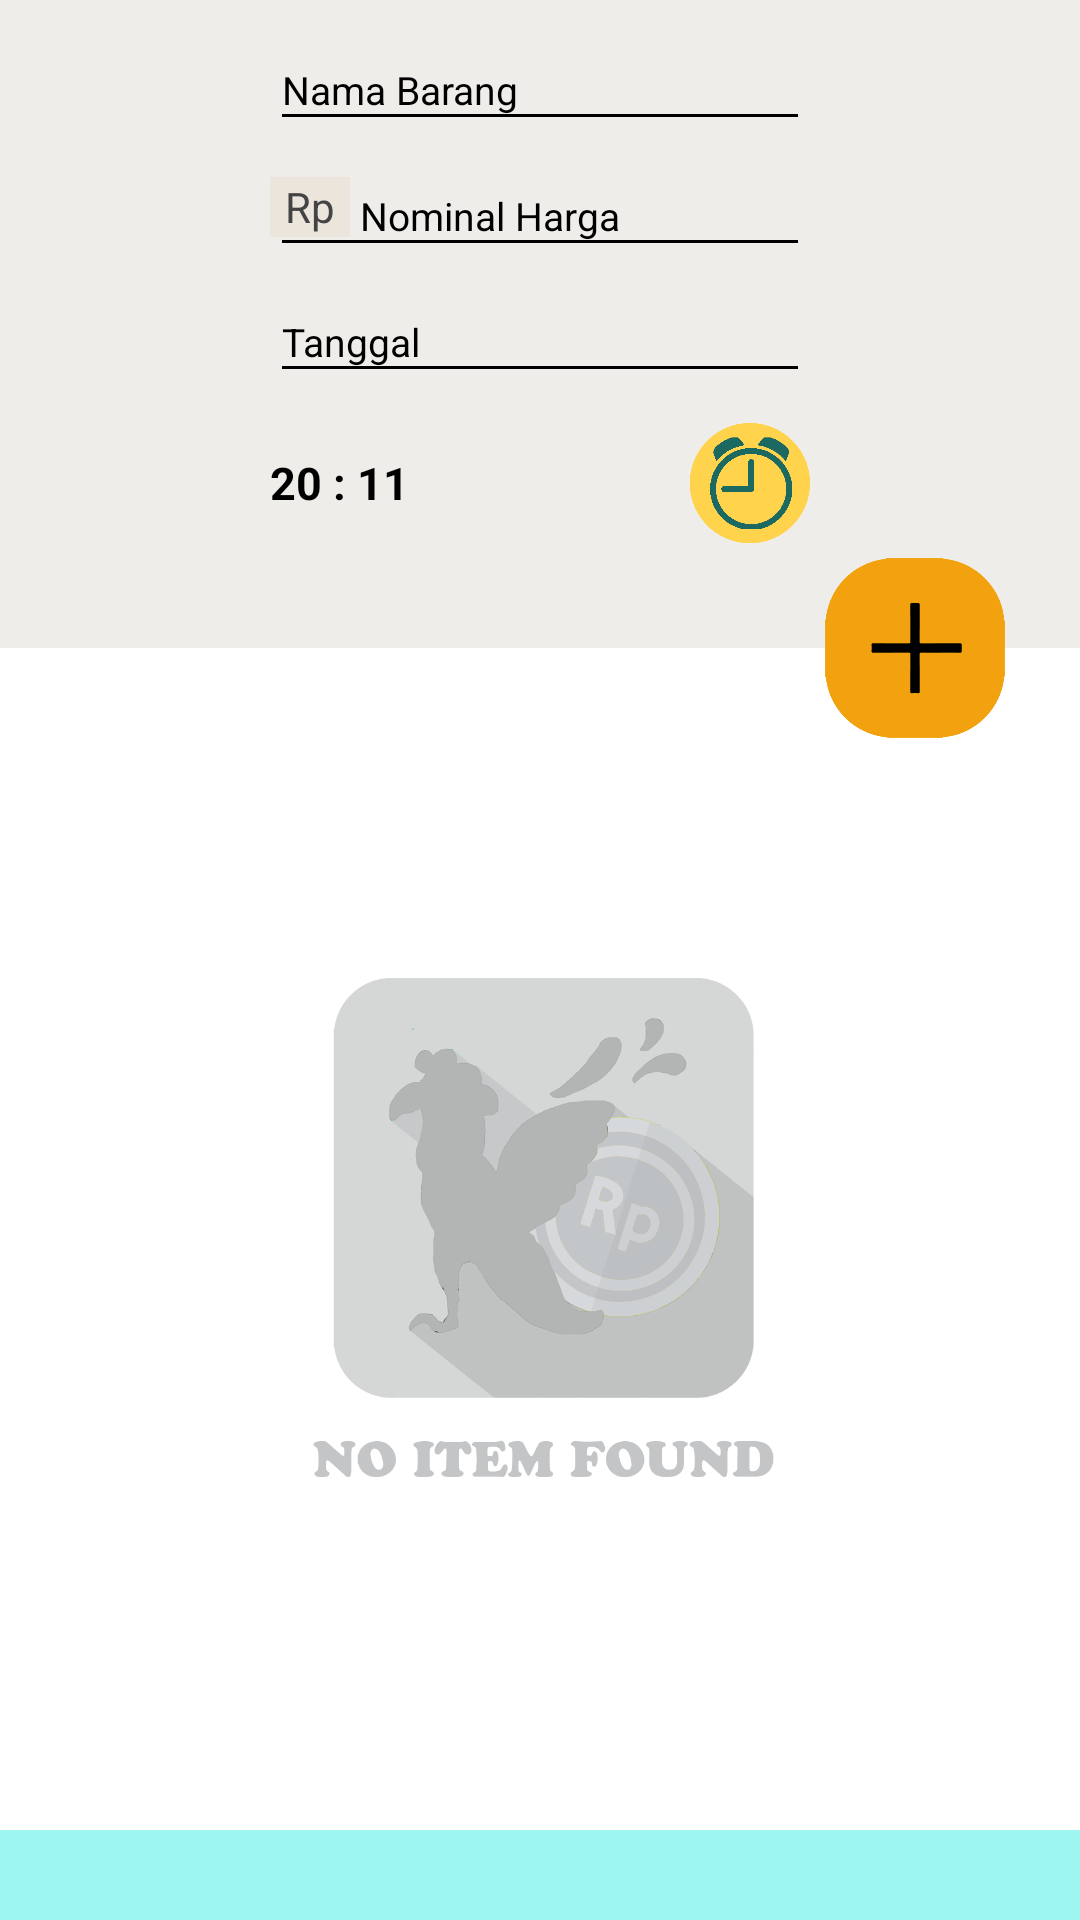

Icons on this 1080 × 1920 Android screen, each with its box as (x1, y1, x2, y2):
jam: (690, 423, 810, 543)
